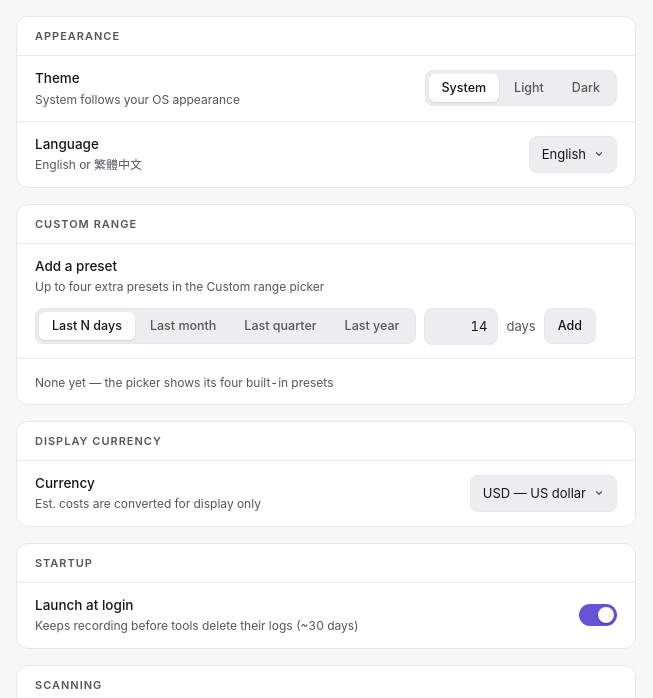
Scenario: SettingsPage › custom range presets › says so when the Ledger has no history for a preset yet
Click the button "Last year".
click(372, 326)  # box [332,312,412,340]
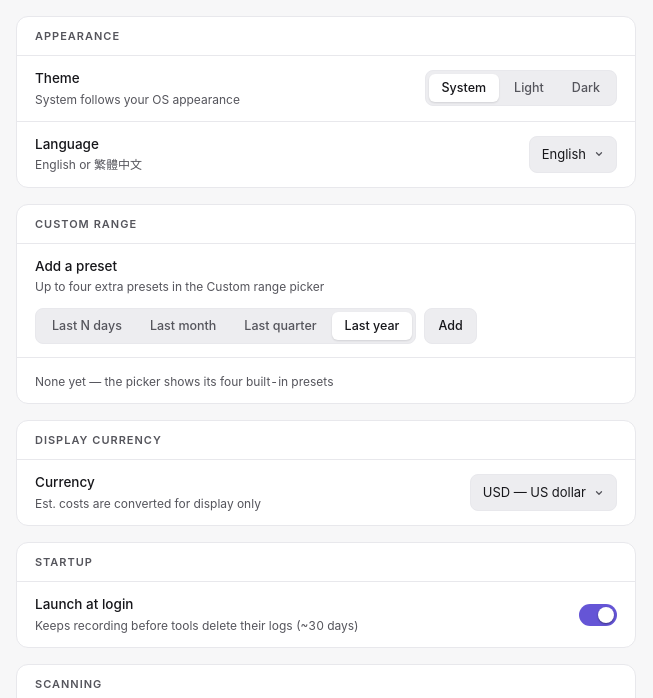
Click the button with class "set-btn".
click(450, 326)  # box [424,308,477,344]
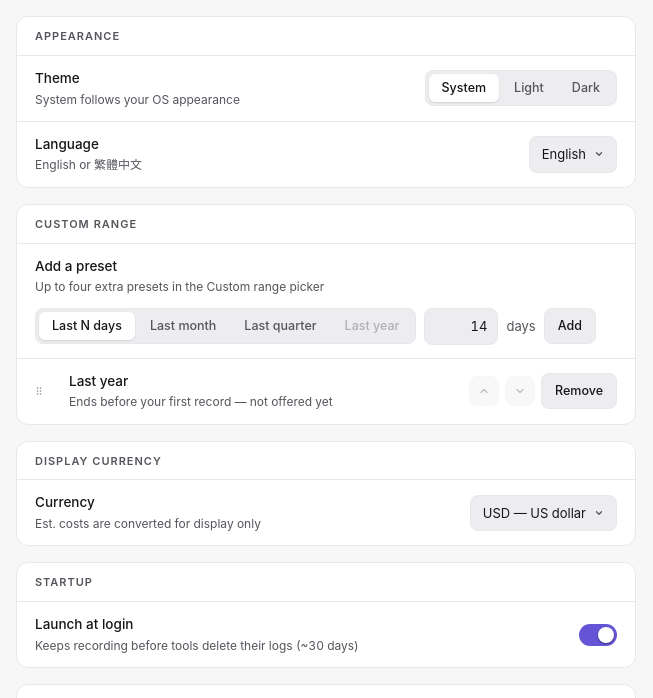
Check: the text with class "set-row-caption" shows "not offered yet", box [69,394,333,409]
